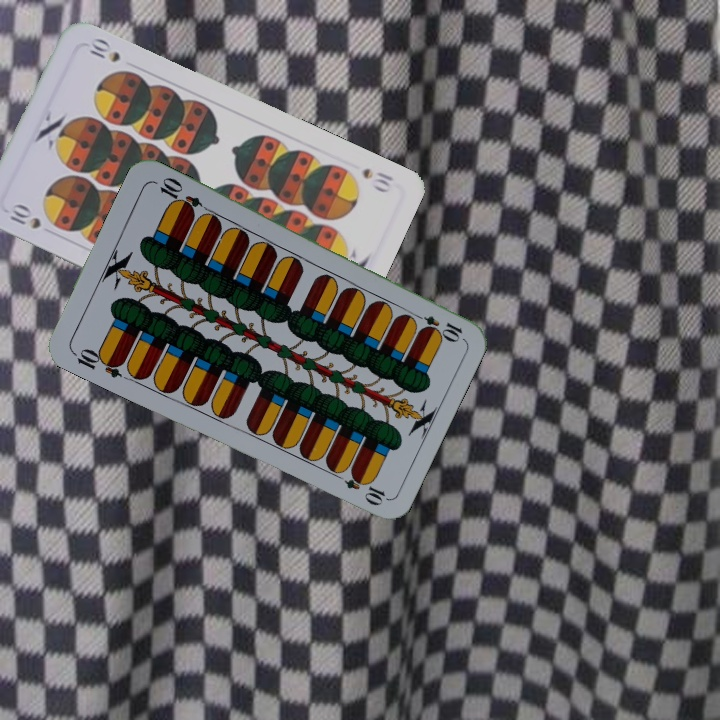E10: (68, 344, 127, 381), (408, 308, 465, 343)
S10: (5, 199, 44, 232), (358, 164, 396, 195)
